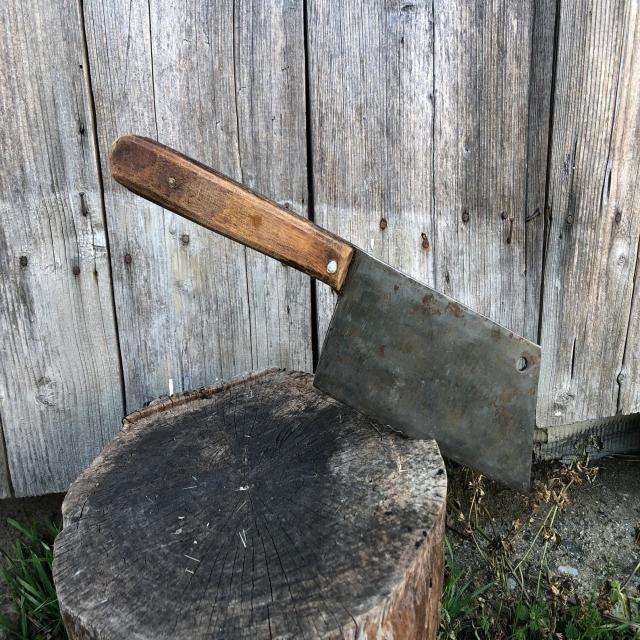cleaver: (110, 130, 536, 496)
